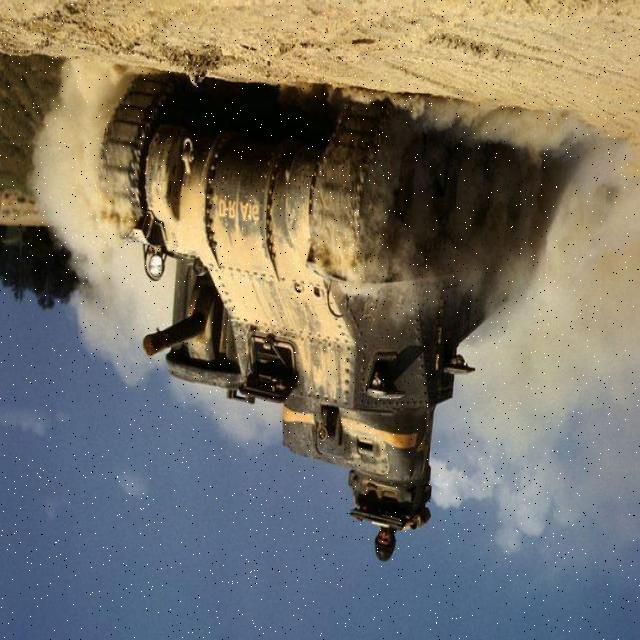MIL_MBT: (99, 98, 517, 486)
